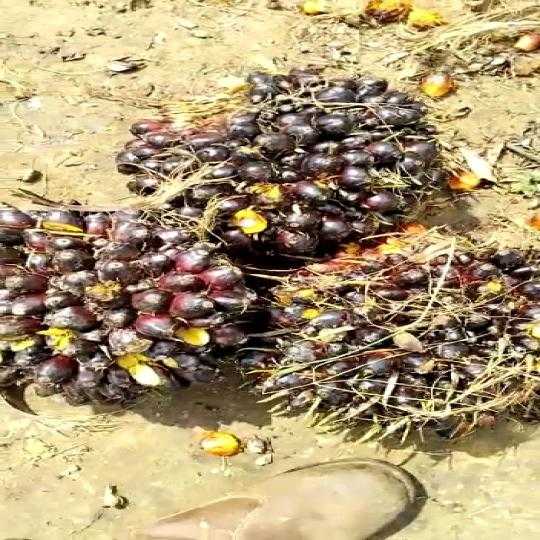mentah: (111, 56, 467, 250), (0, 198, 256, 392)
